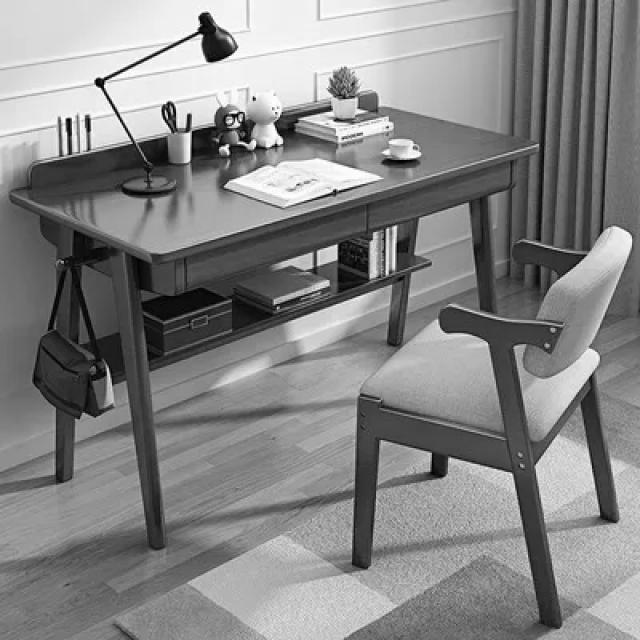table: (8, 99, 574, 255)
